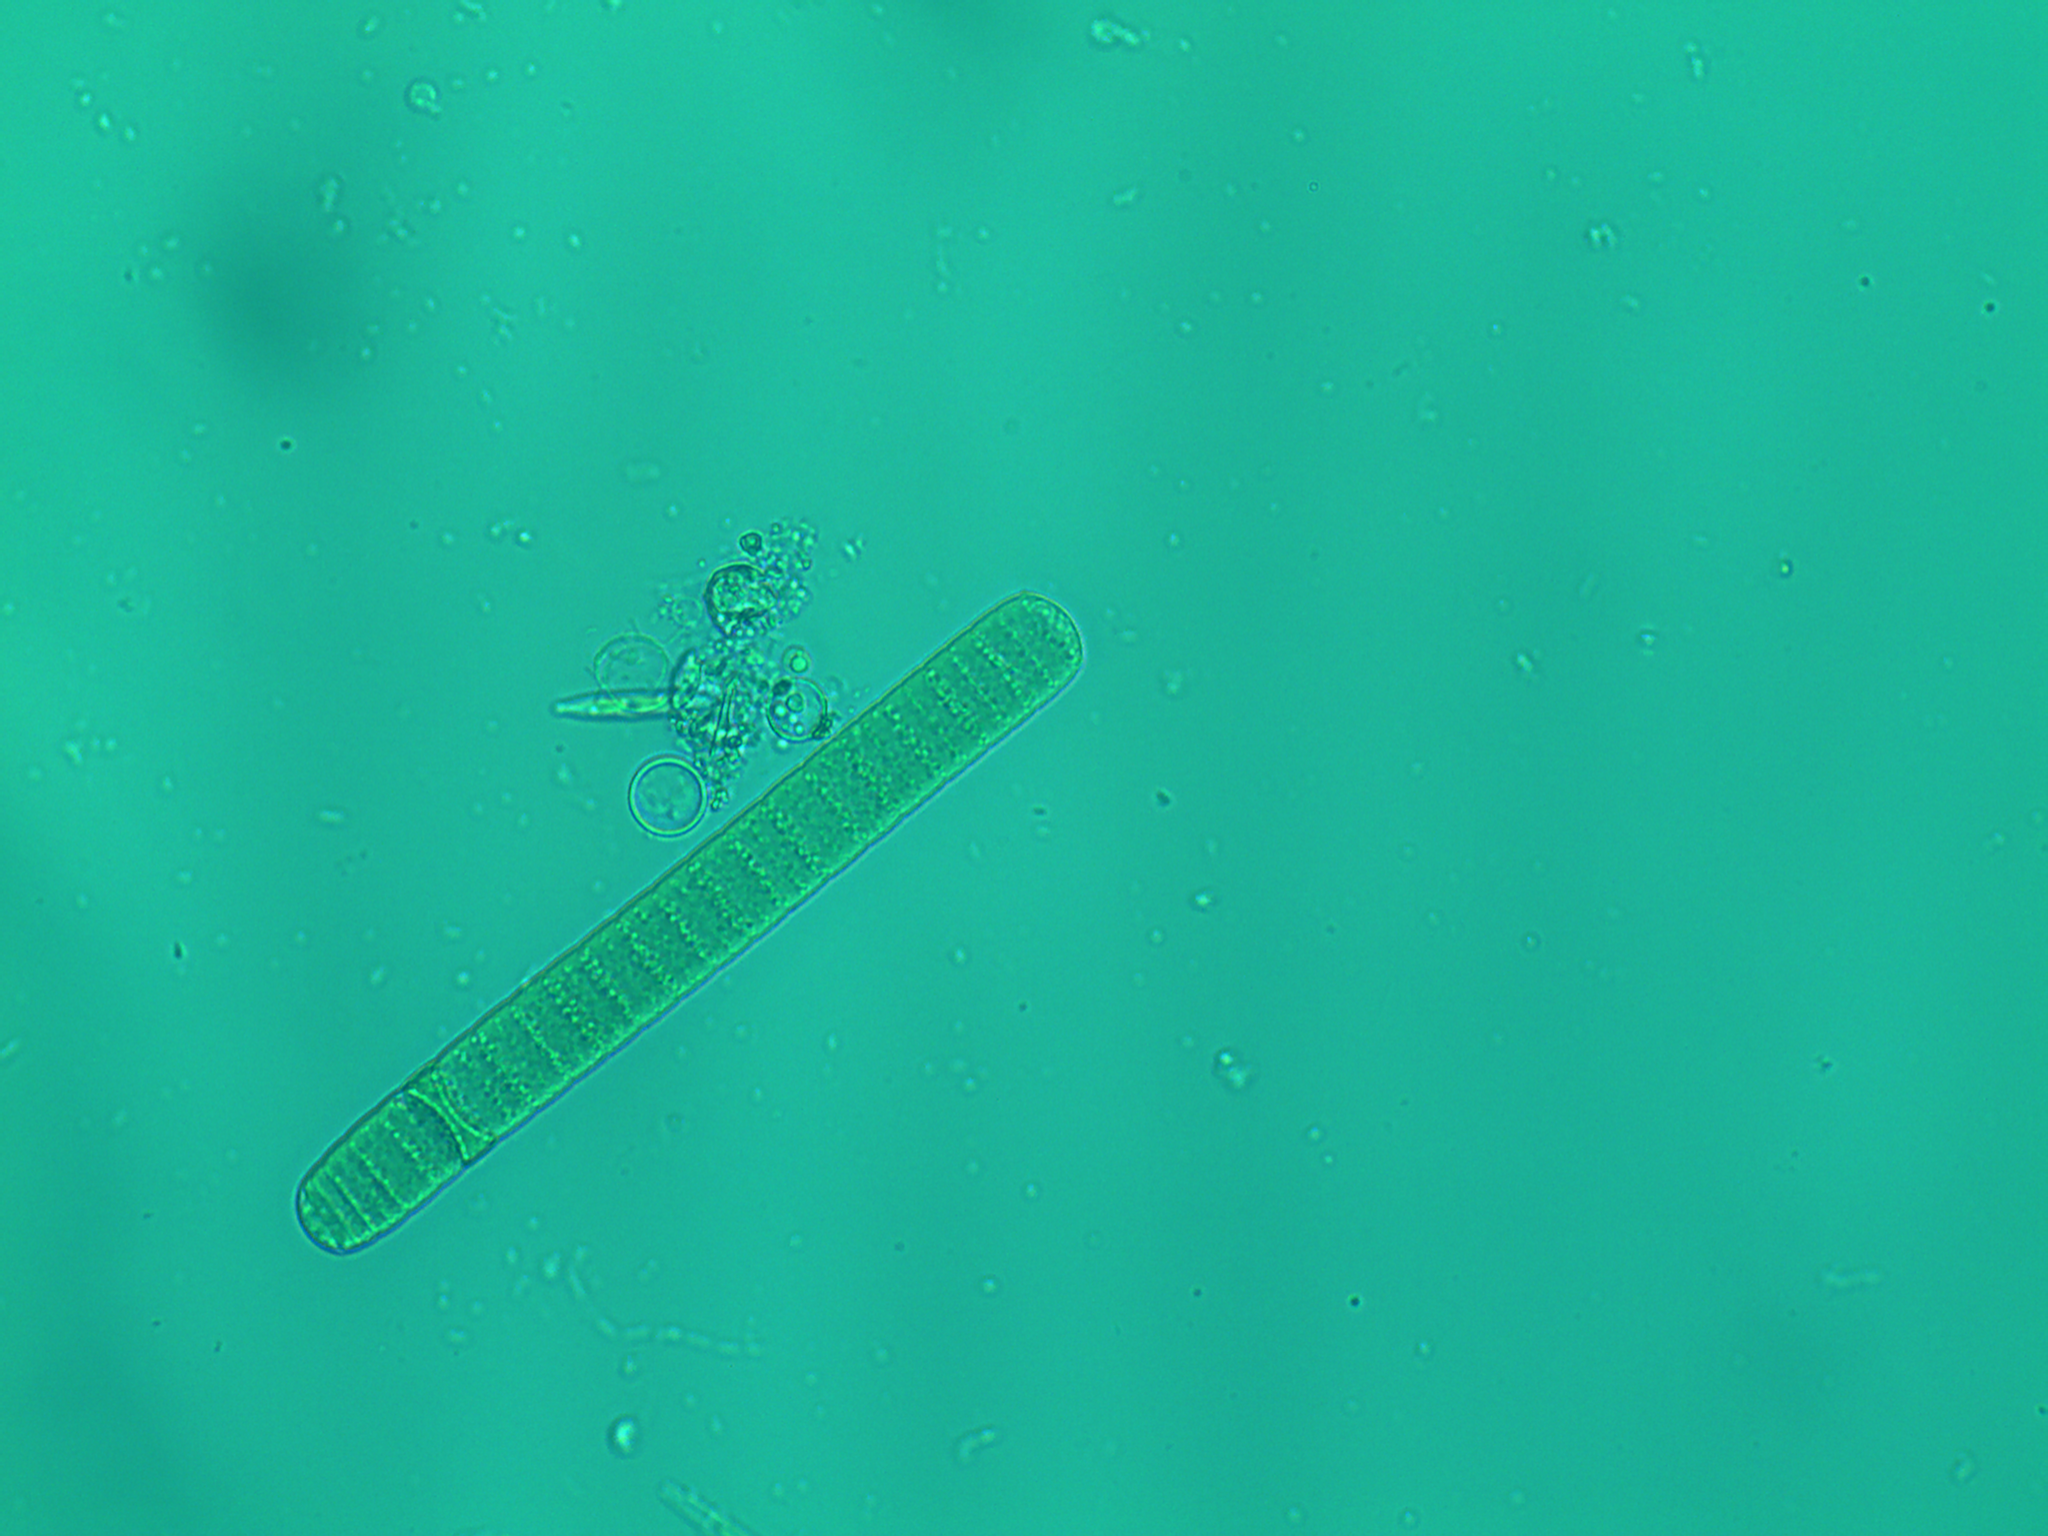G001: (285, 582, 1093, 1267)
unknown: (542, 503, 840, 847)
